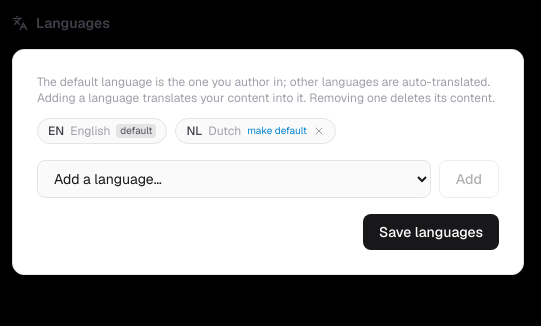
it: LanguagesPanel › adds a chip when a language is selected and Add is clicked
Expected: the text "en" is shown, [48, 123, 64, 139]
Select "French (fr)" in the dropdown named "add a language" at (234, 179), box [37, 160, 431, 198]
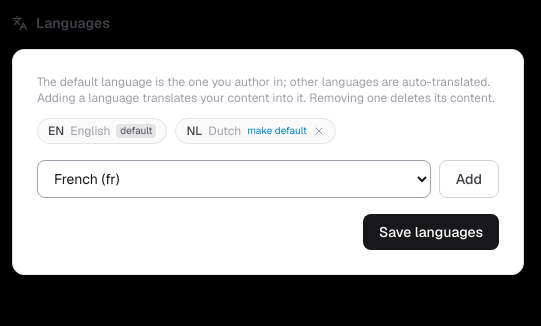
Click the button "Add" at (469, 179), box [439, 160, 499, 198]
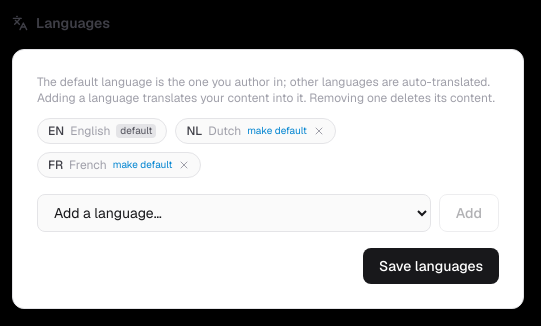
Now the text "fr" is shown, box [48, 157, 63, 173]
